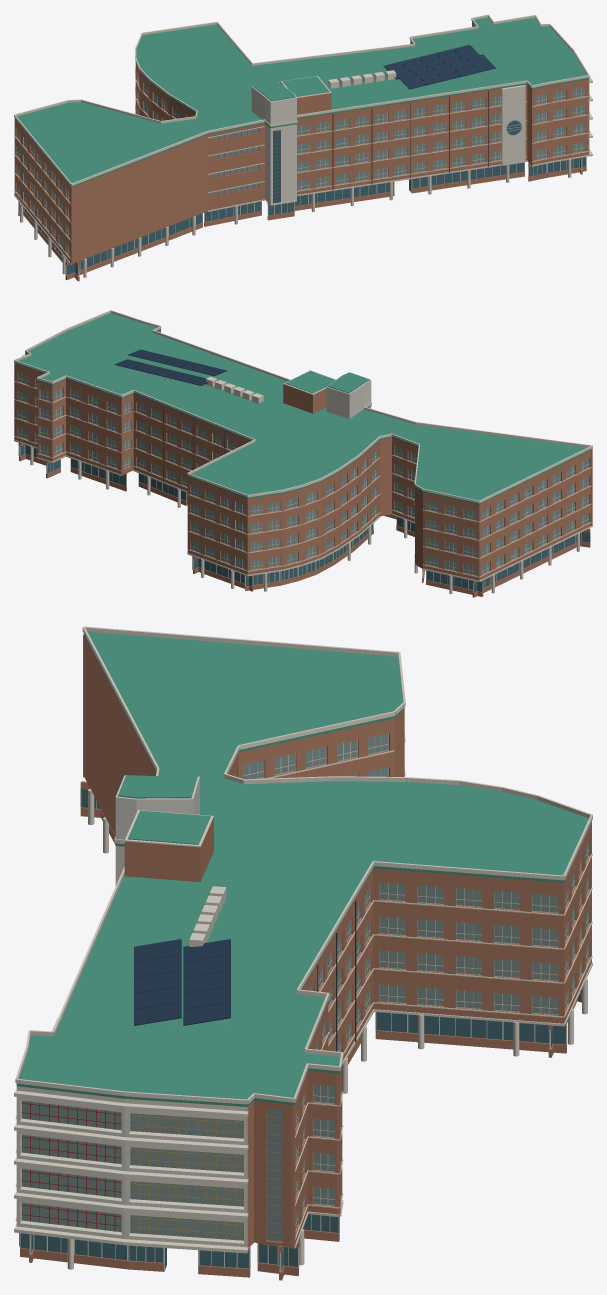
3 renders of one model, top to bottom at view 1: azimuth 30°, elevation 25°; view 2: azimuth 150°, elevation 25°; view 3: azimuth 270°, elevation 25°, orthographic. The views are drawn at different scales.
Visible parts, largest first — view 1: brick, roof, cream (×2), mainGlass, glass, solar, dark; view 2: brick, roof, cream (×2), mainGlass, glass, solar; view 3: roof, brick, cream (×2), mainGlass, glass, solar, coreGold, gateRed.
Part boxes in pixels (x1,y1,x2,y2): brick: (14,22,589,281); roof: (14,17,589,187); cream (×2): (14,14,592,277); mainGlass: (16,74,585,255); glass: (19,130,585,275); solar: (383,44,495,89); dark: (332,90,488,189); brick: (14,330,592,597); roof: (14,313,592,504); cream (×2): (14,310,592,593); mainGlass: (18,372,589,575); glass: (20,445,589,592); solar: (114,349,226,385); roof: (16,631,591,1106); brick: (20,634,591,1280); cream (×2): (14,626,592,1273); mainGlass: (22,733,588,1241); glass: (20,789,581,1270); solar: (134,939,230,1025); coreGold: (130,1108,282,1242); gateRed: (21,1101,121,1231).
Bounding box in the file's own units: 103 × 22.72 × 52.81.
Materials: 10 (1 with a texture image).
